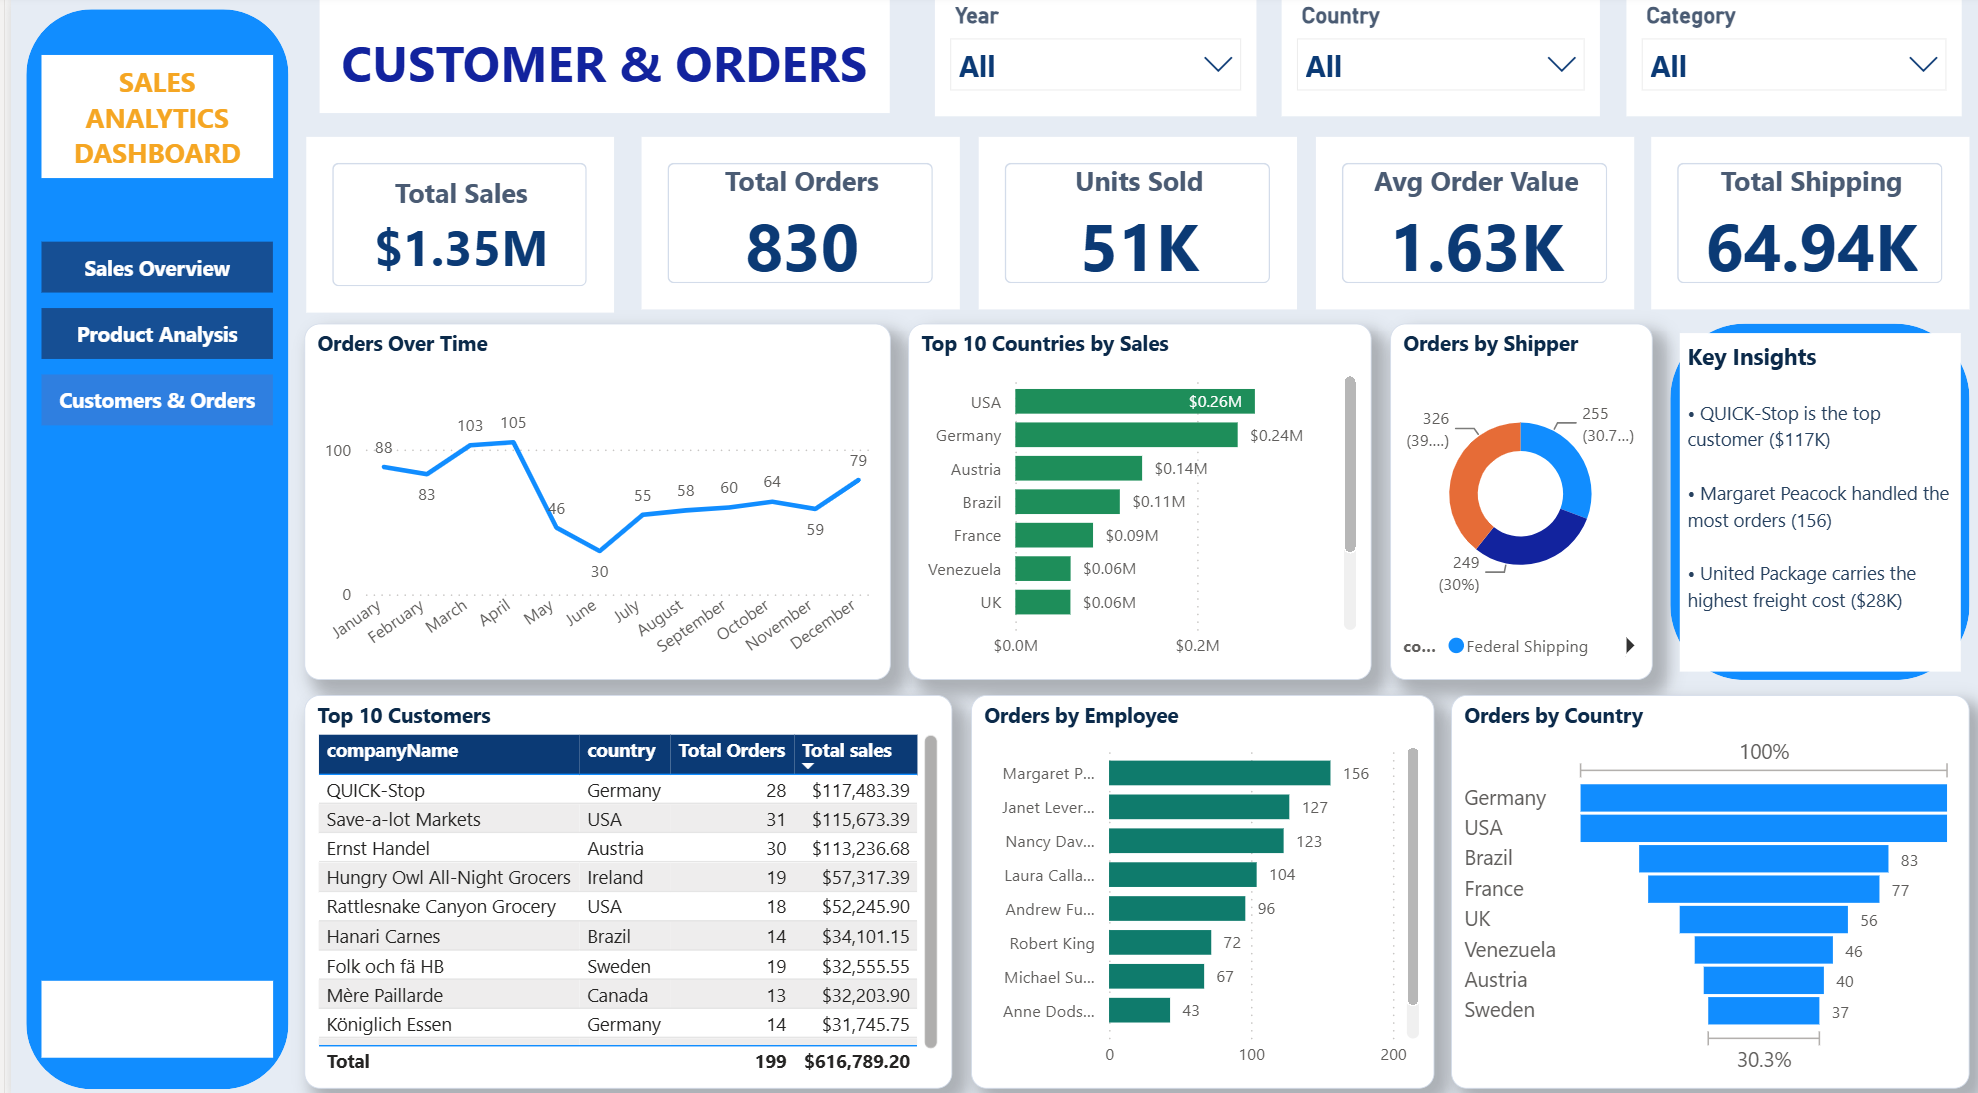

The page's visual inventory and layout, read from the dashboard file:
{"tool":"powerbi","page":{"name":"Customers & Orders","canvas":[1280,720],"ordinal":2},"visuals":[{"type":"shape","box":[10,10,170,700],"z":0},{"type":"textbox","box":[20,40,150,80],"z":1000},{"type":"pageNavigator","box":[20,160,150,120],"z":2000},{"type":"textbox","box":[20,640,150,50],"z":3000},{"type":"textbox","box":[200.1,0,369.3,76.9],"z":5000},{"type":"lineChart","title":"Orders Over Time","fields":{"Category":["orders.orderDate.Variation.Date Hierarchy.Month"],"Y":["categories.Total Orders"]},"box":[190,214,380,231.2],"z":15000},{"type":"clusteredBarChart","title":"Top 10 Countries by Sales","fields":{"Category":["customers.country"],"Y":["categories.Total sales"]},"box":[582,214,300,231.2],"z":16000},{"type":"donutChart","title":"Orders by Shipper","fields":{"Category":["shippers.companyName"],"Y":["categories.Total Orders"]},"box":[894,214,170,231.2],"z":17000},{"type":"shape","box":[1076,214,194,231.2],"z":18000},{"type":"textbox","box":[1082,219.8,182,219.6],"z":19000},{"type":"tableEx","title":"Top 10 Customers","fields":{"Values":["customers.companyName","customers.country","categories.Total Orders","categories.Total sales"]},"box":[190,454.8,420,255.2],"z":20000},{"type":"clusteredBarChart","title":"Orders by Employee","fields":{"Category":["employees.employeeName"],"Y":["categories.Total Orders"]},"box":[622,454.8,300,255.2],"z":21000},{"type":"funnel","title":"Orders by Country","fields":{"Category":["customers.country"],"Y":["categories.Total Orders"]},"box":[934,454.8,336,255.2],"z":22000},{"type":"slicer","fields":{"Values":["orders.orderDate.Variation.Date Hierarchy.Year"]},"box":[599.2,0,208.5,79],"z":22001},{"type":"slicer","fields":{"Values":["customers.country"]},"box":[823,0,206.3,79],"z":22002},{"type":"slicer","fields":{"Values":["categories.categoryName"]},"box":[1046.9,0,217.3,79],"z":22003},{"type":"cardVisual","fields":{"Data":["categories.Total sales"]},"box":[190.9,92.2,199.7,114.1],"z":22004},{"type":"cardVisual","fields":{"Data":["categories.Total Orders"]},"box":[408.4,92,206.4,112],"z":22005},{"type":"cardVisual","fields":{"Data":["categories.Unit Sold"]},"box":[626.8,92,206.4,112],"z":22006},{"type":"cardVisual","fields":{"Data":["categories.Avg order"]},"box":[845.2,92,206.4,112],"z":22007},{"type":"cardVisual","fields":{"Data":["categories.Total Shipping"]},"box":[1063.6,92,206.4,112],"z":22008}]}

Visuals, with their boxes in screenshot pixels (x1, y1, x2, y2), scaled from the page's 1280x720 canvas onto the 1978x1093 screenshot:
shape: [15,15,278,1078]
textbox: [31,61,263,182]
pageNavigator: [31,243,263,425]
textbox: [31,972,263,1047]
textbox: [309,0,880,117]
"Orders Over Time" lineChart: [294,325,881,676]
"Top 10 Countries by Sales" clusteredBarChart: [899,325,1363,676]
"Orders by Shipper" donutChart: [1382,325,1644,676]
shape: [1663,325,1963,676]
textbox: [1672,334,1953,667]
"Top 10 Customers" tableEx: [294,690,943,1078]
"Orders by Employee" clusteredBarChart: [961,690,1425,1078]
"Orders by Country" funnel: [1443,690,1963,1078]
slicer - orders.orderDate.Variation.Date Hierarchy.Year: [926,0,1248,120]
slicer - customers.country: [1272,0,1591,120]
slicer - categories.categoryName: [1618,0,1954,120]
cardVisual - categories.Total sales: [295,140,604,313]
cardVisual - categories.Total Orders: [631,140,950,310]
cardVisual - categories.Unit Sold: [969,140,1288,310]
cardVisual - categories.Avg order: [1306,140,1625,310]
cardVisual - categories.Total Shipping: [1644,140,1963,310]
